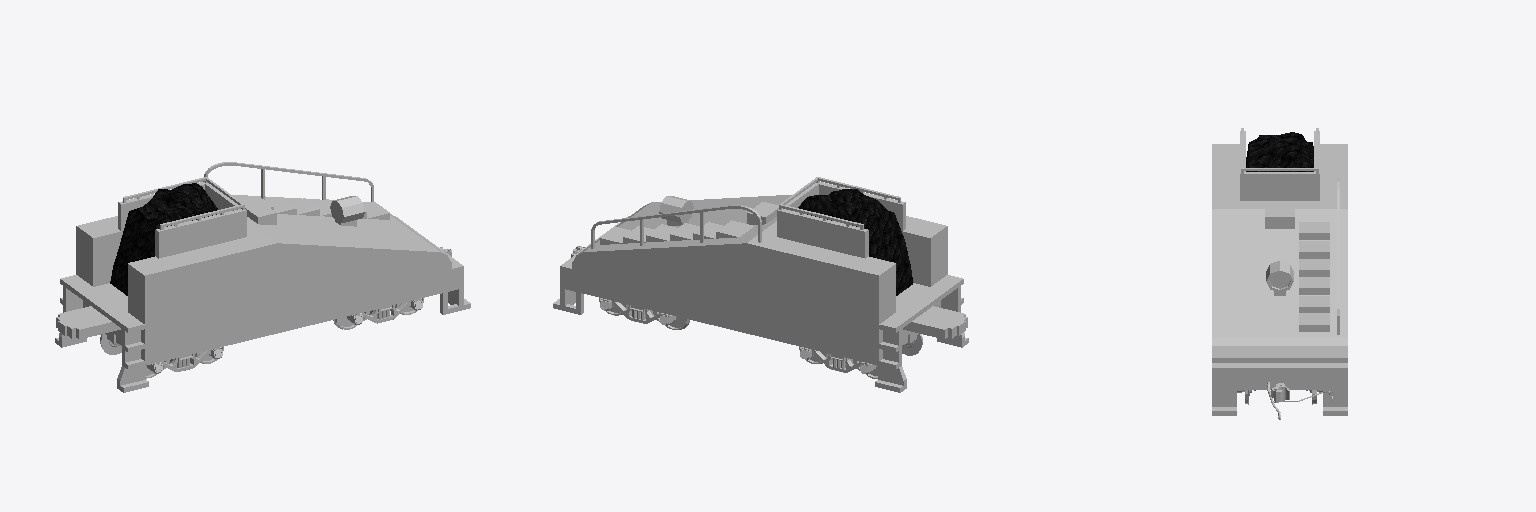
The picture shows the model from 3 angles: view 1: azimuth 30°, elevation 25°; view 2: azimuth 150°, elevation 25°; view 3: azimuth 270°, elevation 25°; orthographic projection.
Visible parts, largest first — view 1: SHELL_Cube.000, CARGO_FILL_100_Plane.005, BOGEY_FRONT_Cube.004, BOGEY_REAR_Cube.001; view 2: SHELL_Cube.000, CARGO_FILL_100_Plane.005, BOGEY_REAR_Cube.001, BOGEY_FRONT_Cube.004; view 3: SHELL_Cube.000, CARGO_FILL_100_Plane.005.
Part boxes in pixels (x1,y1,x2,y2): SHELL_Cube.000: (55,162,470,392); CARGO_FILL_100_Plane.005: (111,183,217,291); BOGEY_FRONT_Cube.004: (147,347,222,373); BOGEY_REAR_Cube.001: (347,298,422,324); SHELL_Cube.000: (553,177,968,392); CARGO_FILL_100_Plane.005: (798,189,912,291); BOGEY_REAR_Cube.001: (600,298,675,325); BOGEY_FRONT_Cube.004: (800,347,875,374); SHELL_Cube.000: (1212,128,1347,415); CARGO_FILL_100_Plane.005: (1246,132,1313,171).
Size of the model in its own units: 10.01 by 3.96 by 3.04.
Materials: 3 (1 with a texture image).